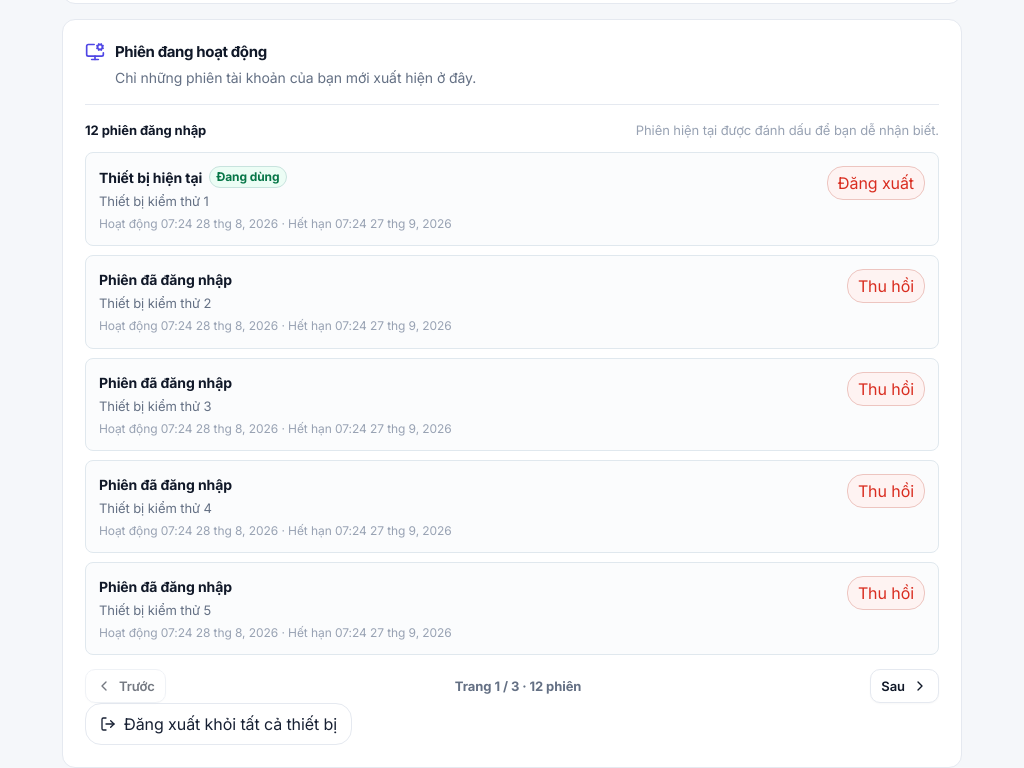
Test: SettingsPage password policy › paginates long active-session lists five items at a time
(page scrolled)
Expected: the navigation bar named "Phân trang phiên đăng nhập" is shown, left=85, top=669, right=939, bottom=703
Expected: the number of list items is 5, left=85, top=152, right=939, bottom=246; left=85, top=256, right=939, bottom=349; left=85, top=358, right=939, bottom=451; left=85, top=460, right=939, bottom=553; left=85, top=562, right=939, bottom=655
Click the button "Sau" at (905, 686), box left=870, top=669, right=939, bottom=703
(page scrolled)
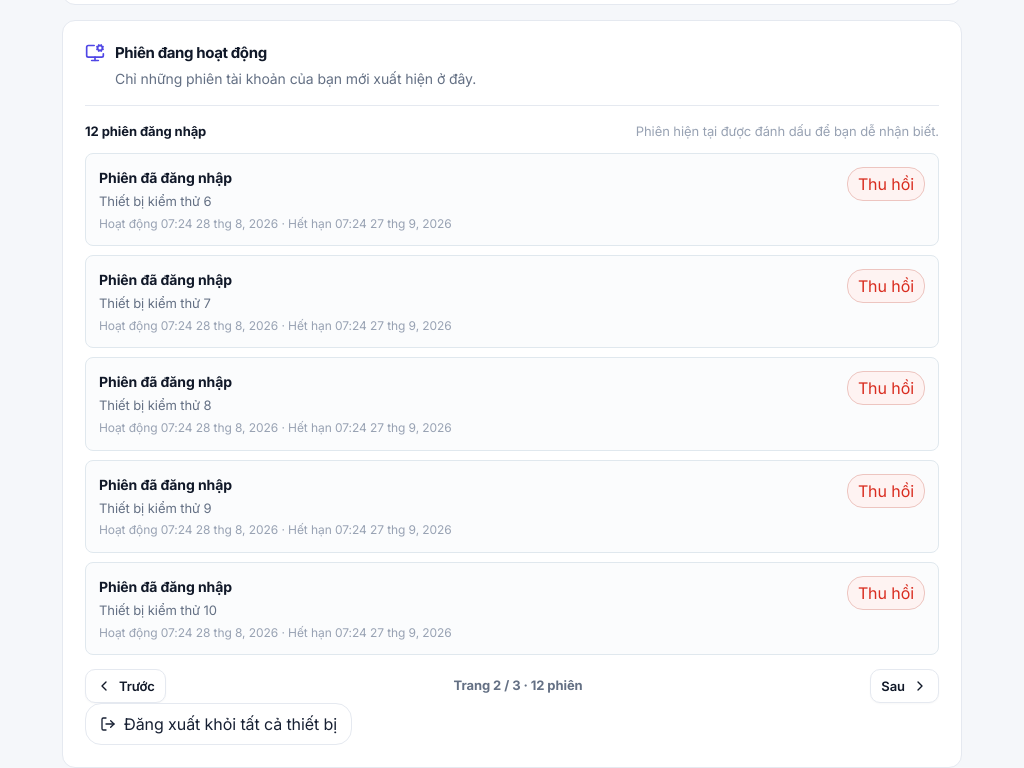
Expected: the number of list items is 5, left=85, top=153, right=939, bottom=246; left=85, top=255, right=939, bottom=348; left=85, top=357, right=939, bottom=450; left=85, top=460, right=939, bottom=553; left=85, top=562, right=939, bottom=655
Now the text "Trang 2 / 3 · 12 phiên" is shown, box left=454, top=676, right=583, bottom=696
Now the text "Thiết bị kiểm thử 6" is shown, box left=99, top=193, right=212, bottom=209
